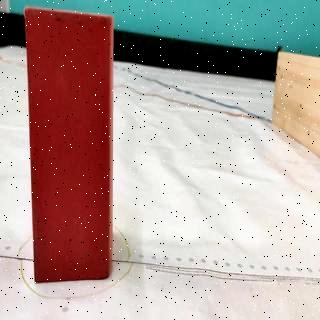redbox: (24, 8, 114, 284)
